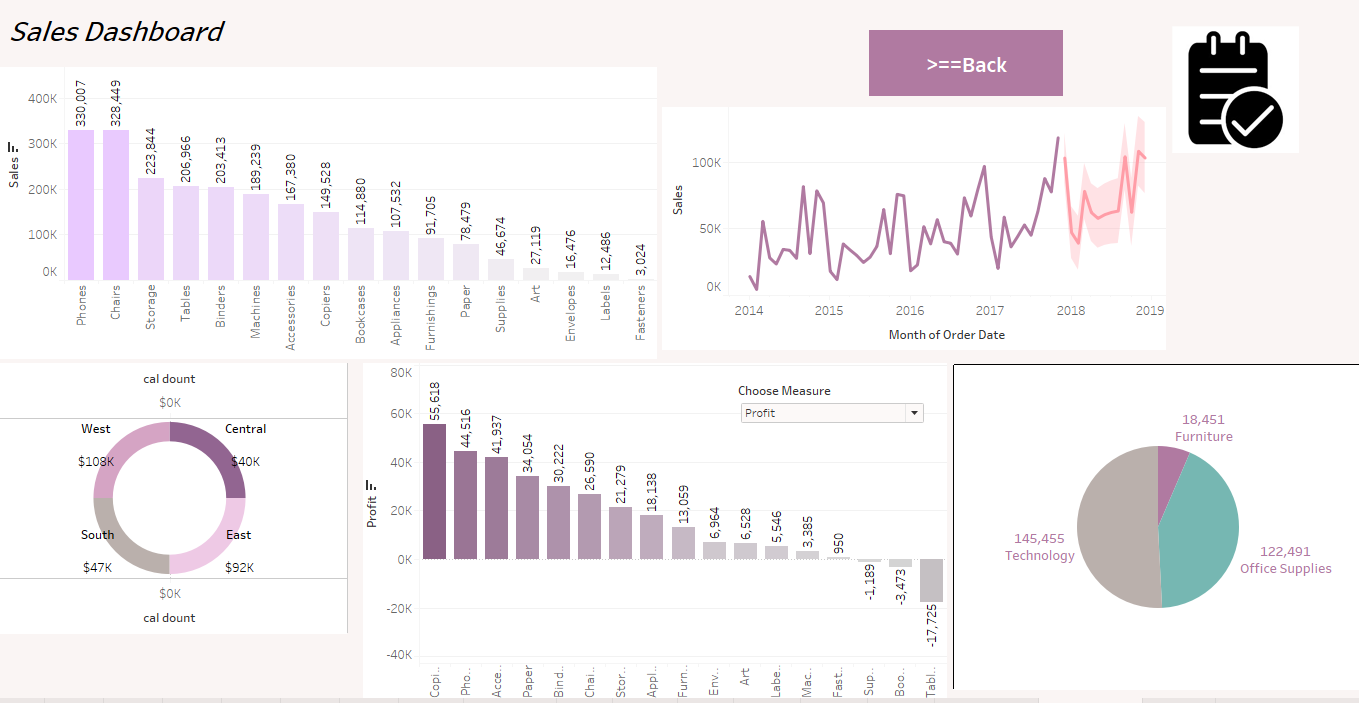

This screenshot's page, from the dashboard's own definition file:
{"tool":"tableau","page":{"name":"Dashboard 2","canvas":[1000,1000],"units":"permille","ordinal":1},"visuals":[{"type":"title","box":[6.9,14.7,986.1,82.7]},{"type":"image","param":"C:/Users/Multimedia/Downloads/WhatsApp Image 2025-06-07 at 9.32.52 AM (4).jpeg","box":[862.3,36.8,102.2,182]},{"type":"dashboard-object","box":[640.7,42.3,142,95.6]},{"type":"worksheet","title":"task 14 1","mark":"Automatic","rows":["Sales"],"cols":["Sub-Category"],"box":[2.6,95.6,483.1,419.1]},{"type":"worksheet","title":"task 2","mark":"Automatic","rows":["Sales"],"cols":["Order Date"],"box":[489.2,132.3,368.8,380.5]},{"type":"worksheet","title":"task 13","mark":"Automatic","rows":["Calculation_419679207875858432"],"cols":["Sub-Category"],"box":[270.1,520.2,427.7,481.6]},{"type":"worksheet","title":"task 5","mark":"Pie","box":[702.2,522.1,300.4,466.9]},{"type":"parameter","param":"[Parameters].[Parameter 1]","box":[544.6,547.8,138.5,80.9]}]}

Visuals, with their boxes on the dashboard's canvas, which has no fixed pixel size, in thousandths of its width and height (x1, y1, x2, y2). These are canvas units, not pixel positions in the 1359x703 screenshot, which may show the page scaled, cropped or inside an application window:
title: <region>7, 15, 993, 97</region>
image: <region>862, 37, 964, 219</region>
dashboard-object: <region>641, 42, 783, 138</region>
"task 14 1" worksheet: <region>3, 96, 486, 515</region>
"task 2" worksheet: <region>489, 132, 858, 513</region>
"task 13" worksheet: <region>270, 520, 698, 1002</region>
"task 5" worksheet (Pie marks): <region>702, 522, 1003, 989</region>
parameter: <region>545, 548, 683, 629</region>
